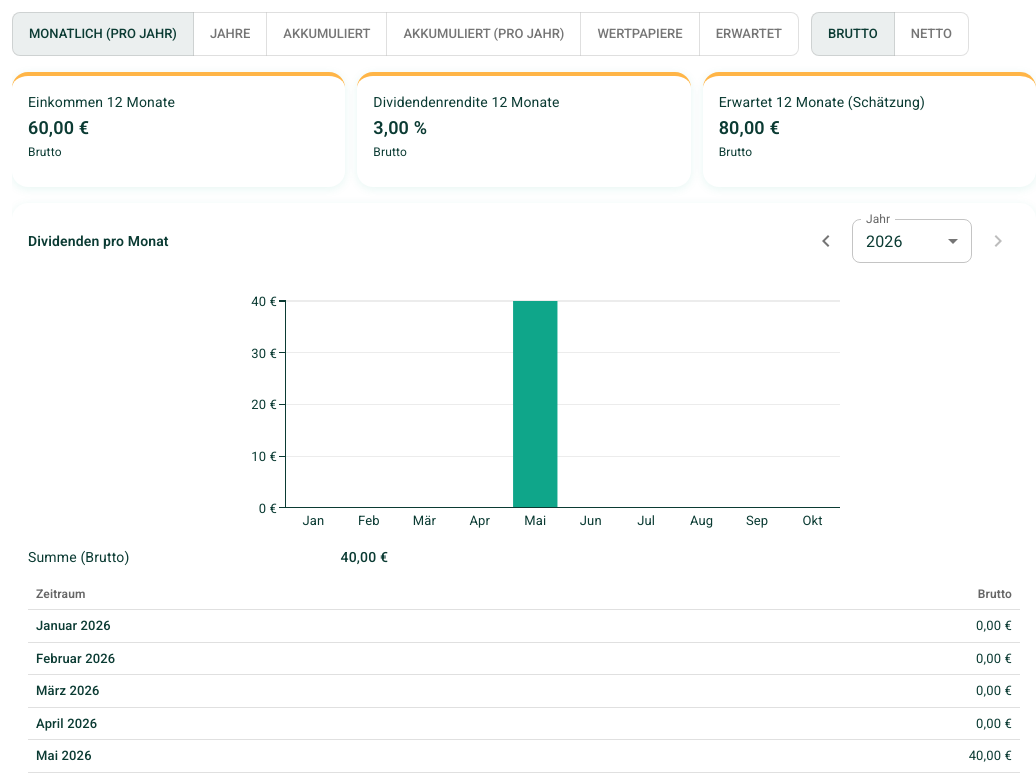
Test: DividendsView › steps through the years with the arrows next to the year field
Expected: the dropdown named "Jahr" reads "2026", [866,232,903,251]
Expected: the button named "Nächstes Jahr" is disabled, [976,219,1020,263]
Step 1. Click the button named "Vorheriges Jahr" → (826, 241), box [804,219,848,263]
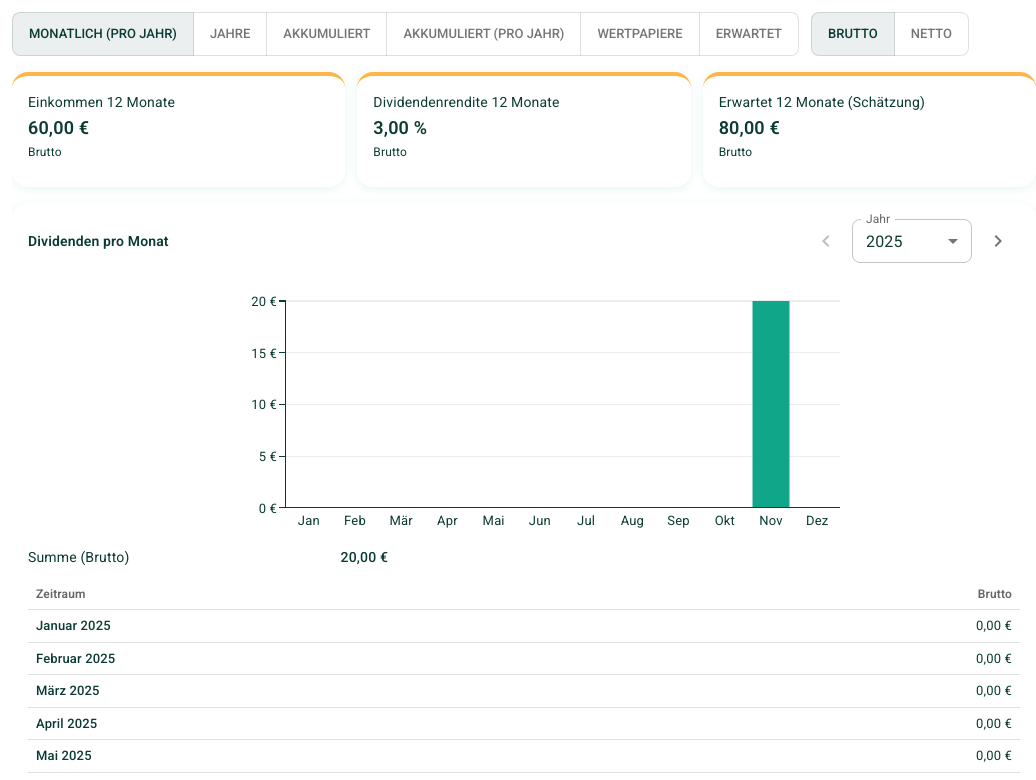
Now the dropdown named "Jahr" reads "2025", box [866,232,903,251]
Now the button named "Vorheriges Jahr" is disabled, box [804,219,848,263]
Step 2. Click the button named "Nächstes Jahr" → (998, 241), box [976,219,1020,263]
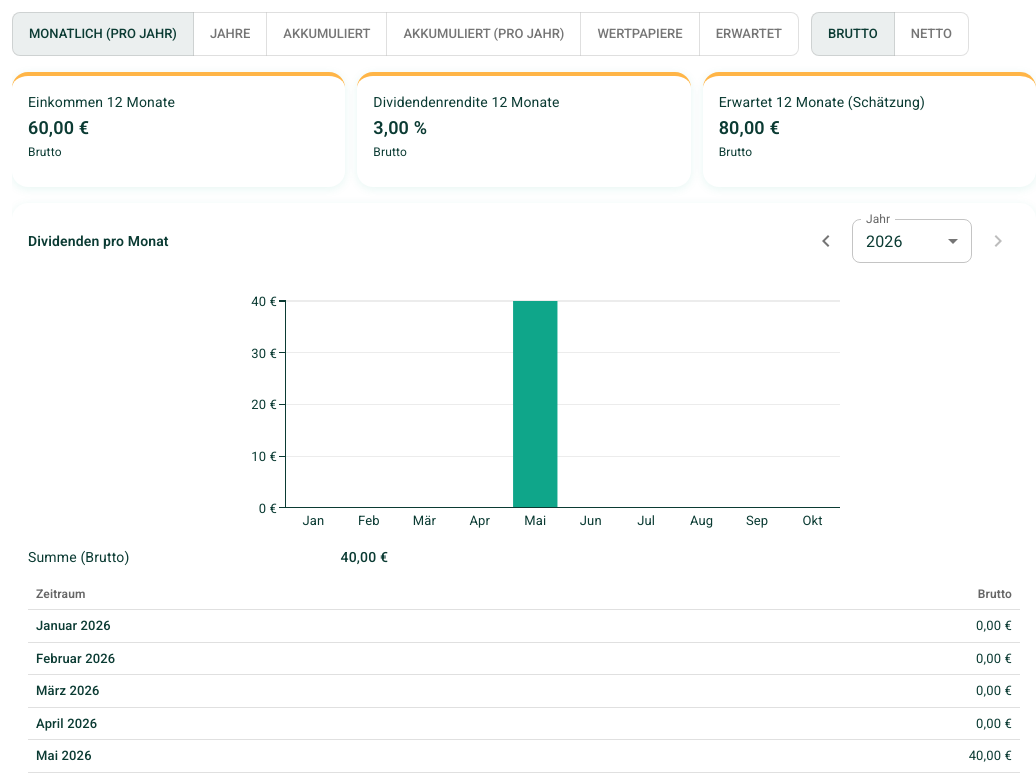
Now the dropdown named "Jahr" reads "2026", box [866,232,903,251]
